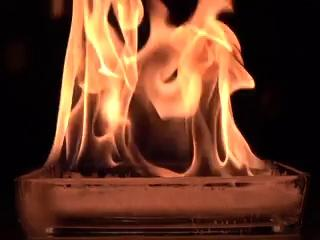Fire: (33, 1, 273, 175)
